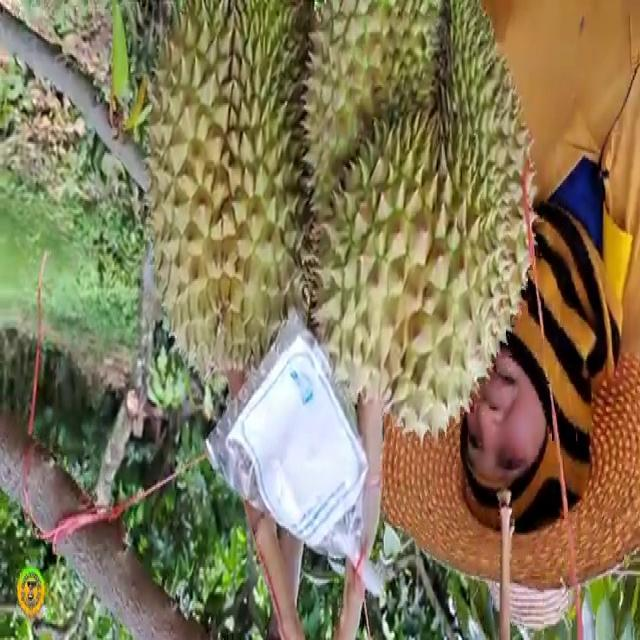durian: (294, 2, 542, 451), (140, 2, 330, 393)
